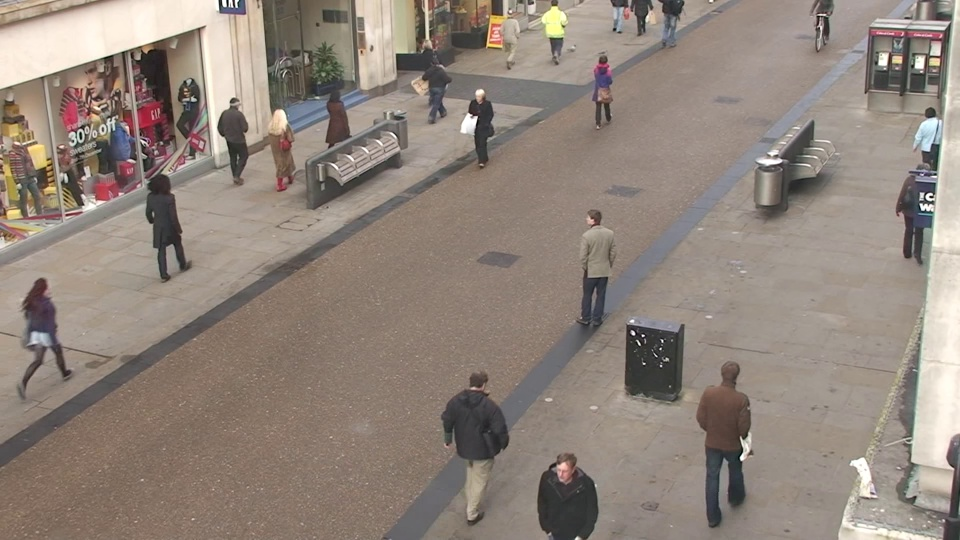pedestrian: (700, 352, 755, 510), (17, 270, 80, 404), (454, 359, 506, 516), (535, 444, 591, 540), (139, 170, 184, 278), (576, 203, 614, 323), (903, 102, 949, 199), (265, 104, 299, 195), (220, 92, 254, 179), (320, 86, 352, 172), (466, 85, 497, 173), (421, 53, 449, 131), (590, 52, 616, 130), (414, 37, 441, 111), (497, 6, 520, 71)
